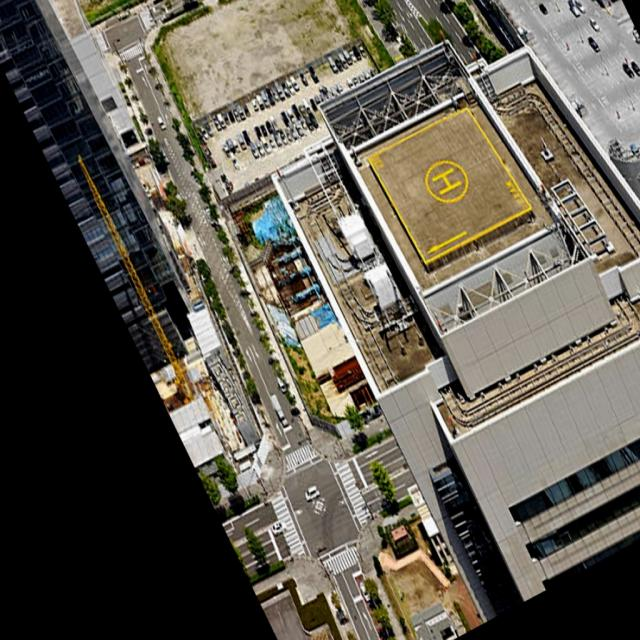helipad: (422, 157, 470, 204)
